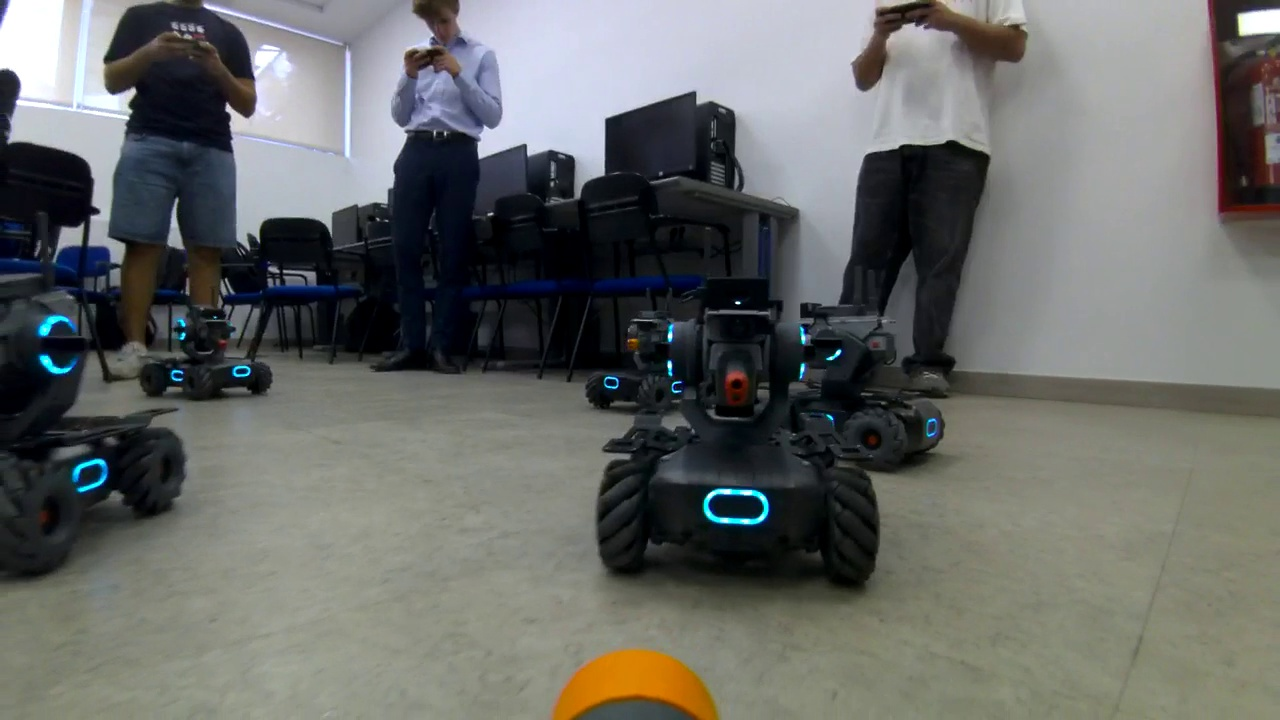robot: (596, 298, 889, 598), (2, 297, 189, 590), (762, 294, 954, 481), (136, 306, 283, 403), (578, 299, 692, 414)
